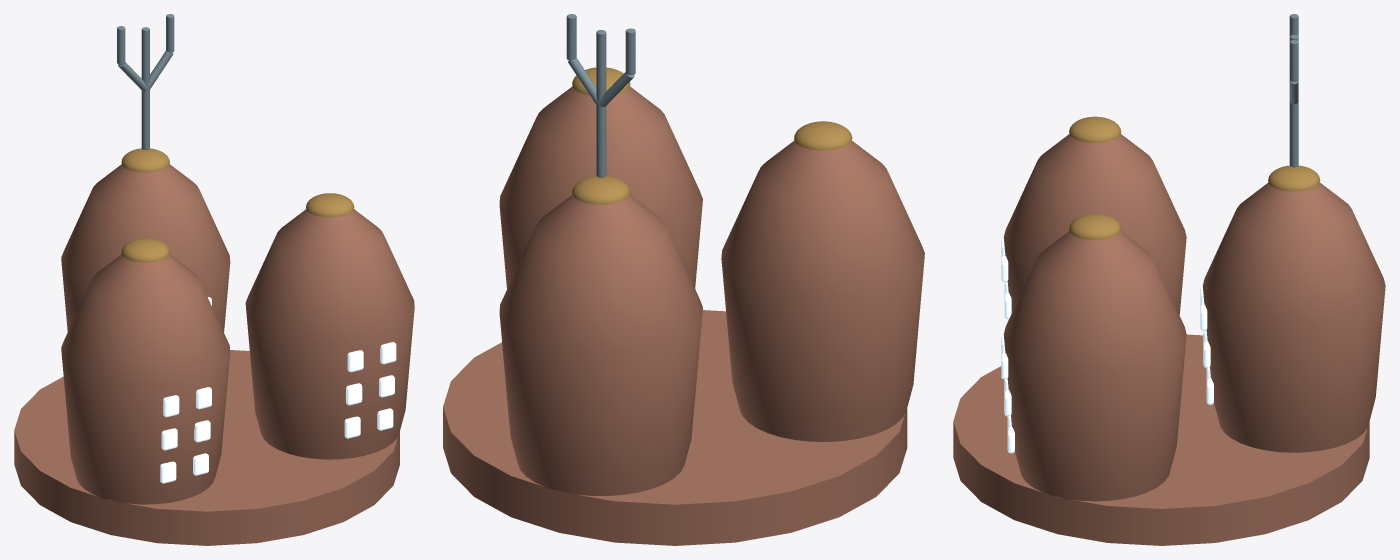
3 renders of one model, left to right at view 1: azimuth 30°, elevation 25°; view 2: azimuth 150°, elevation 25°; view 3: azimuth 270°, elevation 25°, orthographic. The views are drawn at different scales.
Visible parts, largest first — view 1: Bulb shaped chamber.001, Bulb shaped chamber.002, Foundation drum, Bulb shaped chamber, Aerial stem, Tower crown.001, Tower crown.002, Tower crown; view 2: Bulb shaped chamber.001, Bulb shaped chamber, Foundation drum, Bulb shaped chamber.002, Aerial stem, Tower crown.001, Tower crown, Tower crown.002; view 3: Bulb shaped chamber, Bulb shaped chamber.002, Foundation drum, Bulb shaped chamber.001, Tower crown.001, Tower crown.002, Tower crown, Aerial stem.
Boxes of the visible parts, x1,y1,x2,y2 form: Bulb shaped chamber.001: (61, 254, 230, 504); Bulb shaped chamber.002: (245, 209, 414, 459); Foundation drum: (14, 350, 399, 545); Bulb shaped chamber: (61, 164, 230, 332); Aerial stem: (141, 27, 149, 149); Tower crown.001: (121, 238, 169, 262); Tower crown.002: (306, 193, 354, 217); Tower crown: (121, 148, 169, 172); Bulb shaped chamber.001: (721, 140, 924, 441); Bulb shaped chamber: (499, 195, 702, 495); Foundation drum: (443, 310, 907, 545); Bulb shaped chamber.002: (499, 86, 702, 288); Aerial stem: (596, 30, 606, 177); Tower crown.001: (794, 121, 852, 150); Tower crown: (572, 175, 630, 204); Tower crown.002: (572, 67, 630, 95); Bulb shaped chamber: (1202, 182, 1385, 452); Bulb shaped chamber.002: (1003, 231, 1186, 501); Foundation drum: (953, 334, 1369, 545); Bulb shaped chamber.001: (1003, 134, 1186, 314); Tower crown.001: (1069, 116, 1121, 142); Tower crown.002: (1069, 213, 1121, 239); Tower crown: (1268, 165, 1320, 191); Aerial stem: (1289, 34, 1298, 167).
Size of the model in its own units: 2.04 by 2.32 by 2.12.
